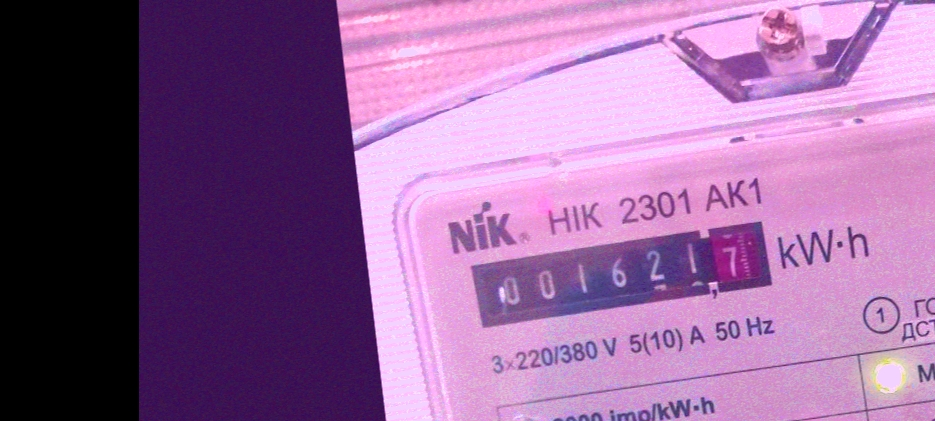0: (536, 261, 562, 301), (501, 268, 525, 304)
1: (684, 234, 703, 273), (575, 255, 593, 293)
2: (645, 242, 670, 281)
6: (609, 251, 632, 287)
7: (720, 239, 744, 277)
screen: (467, 214, 782, 330)
